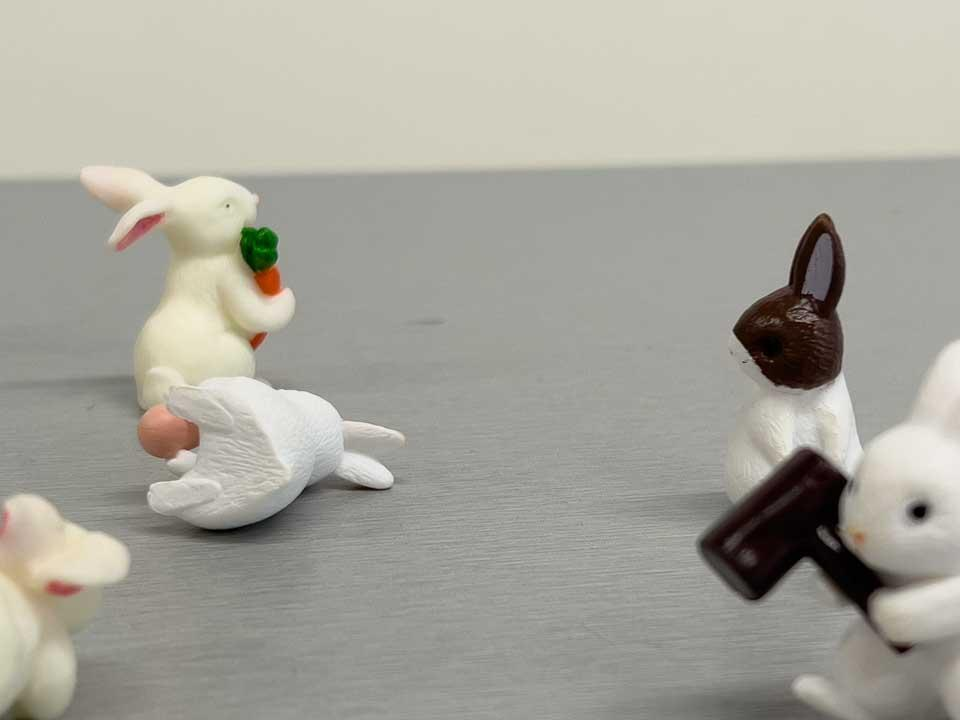pet: (695, 340, 960, 720), (76, 162, 296, 410), (718, 211, 873, 519), (134, 375, 408, 527)
